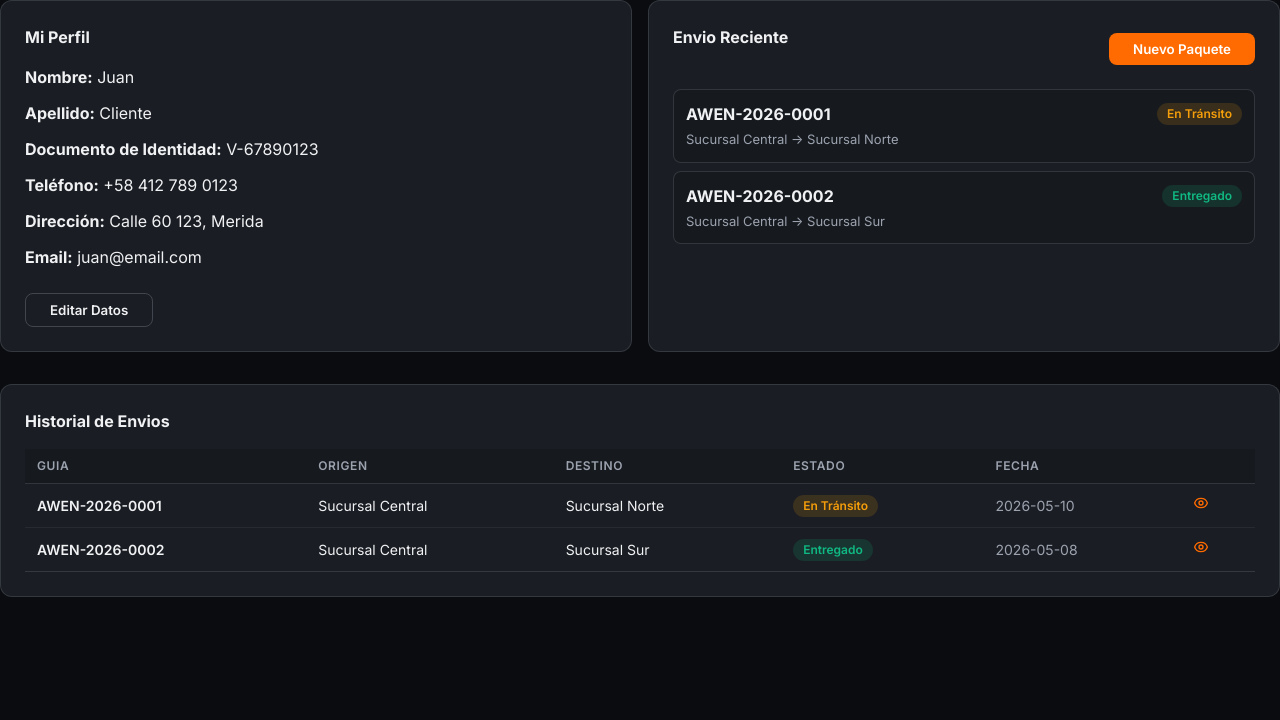
it: ClientProfile › actualiza los datos de contacto del perfil
Expected: the heading "Mi Perfil" is shown, [25, 27, 90, 47]
Step 1. Click the button "Editar Datos" → point(89, 310), box [25, 293, 153, 327]
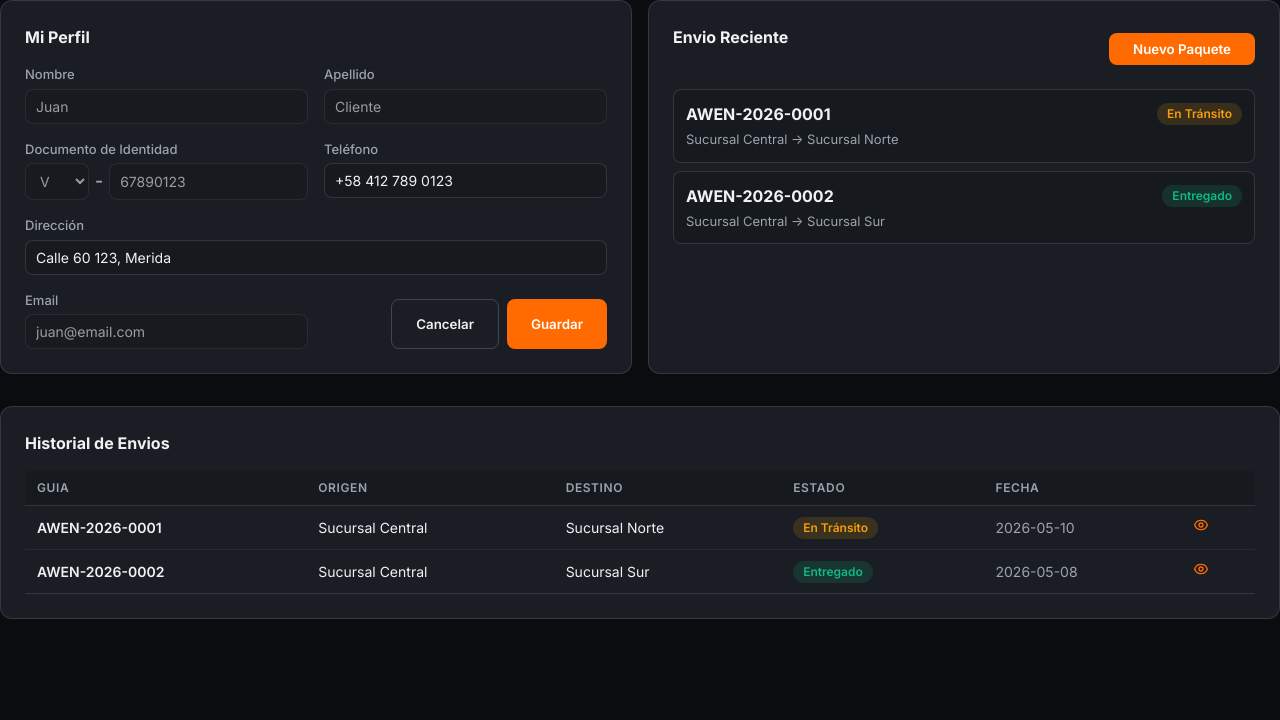
Step 2. Replace the text in the field with placeholder "+58 XXX XXX XXXX" below "Teléfono" with "+58 412 000 0000" → point(466, 180), box [324, 163, 607, 198]
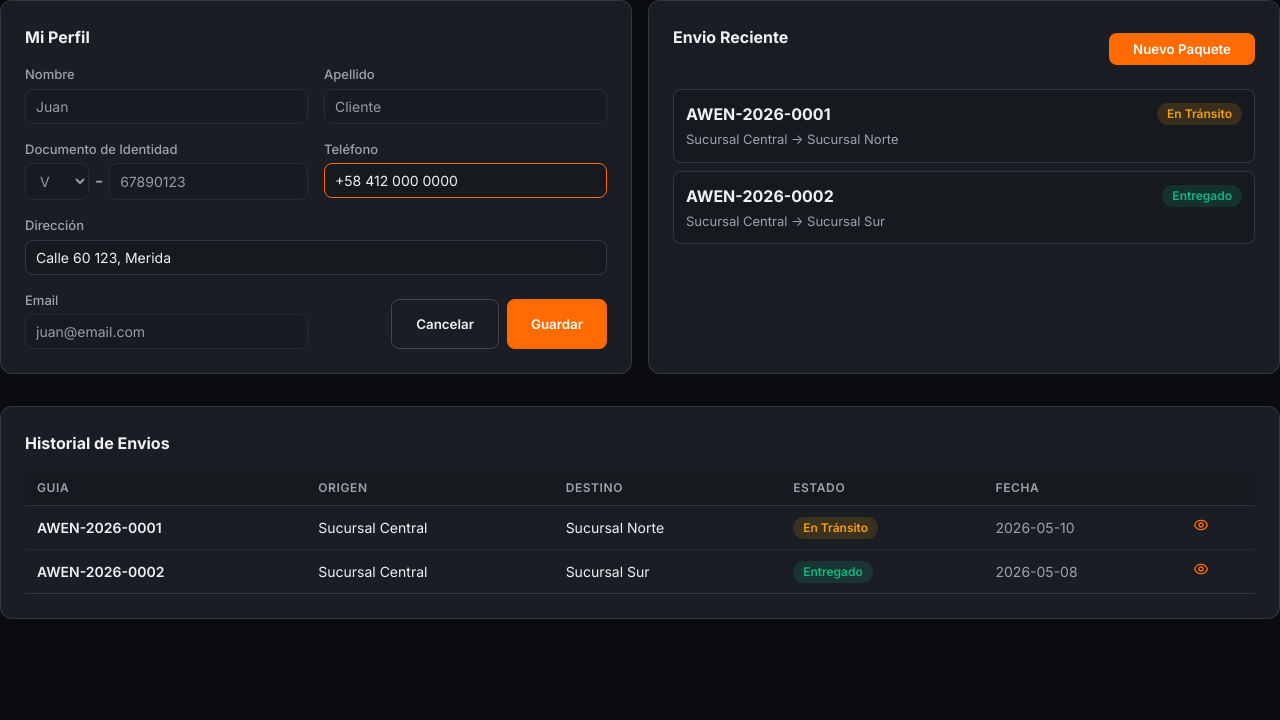
Step 3. Replace the text in the field with placeholder "Calle, ciudad" below "Dirección" with "Nueva Direccion 123" → point(316, 257), box [25, 240, 607, 274]
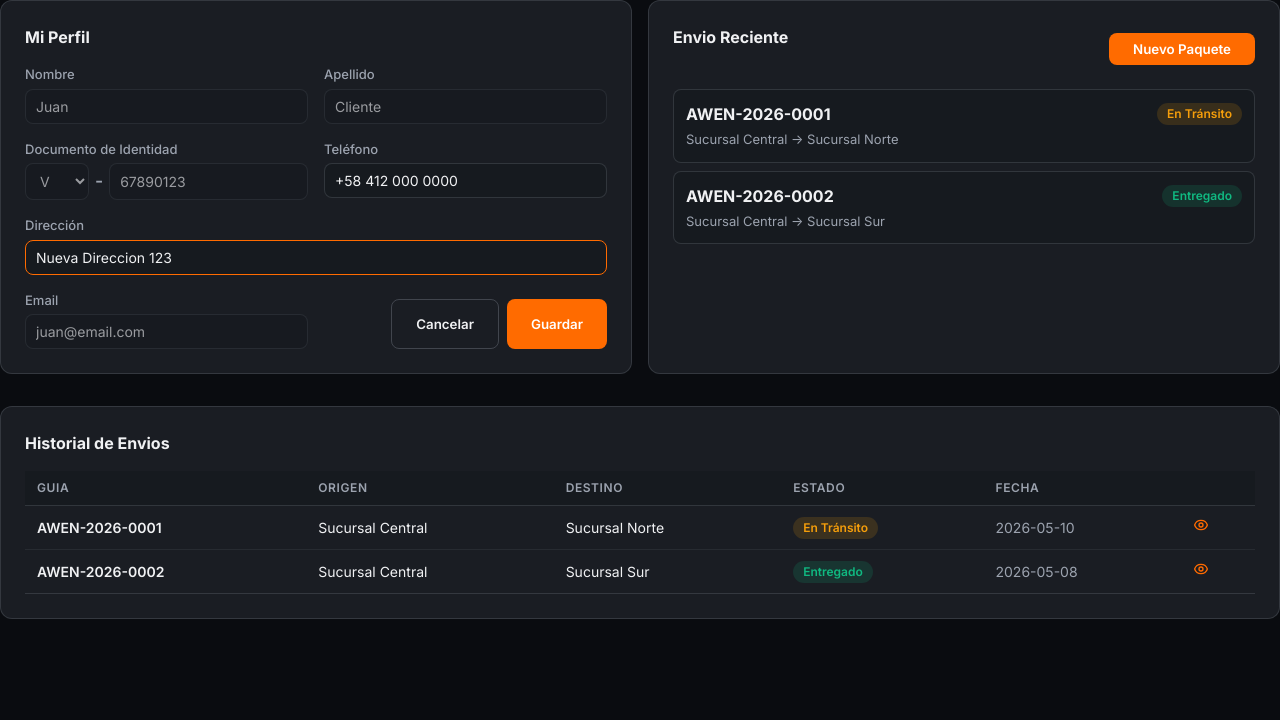
Step 4. Click the button "Guardar" → point(557, 324), box [507, 298, 607, 349]
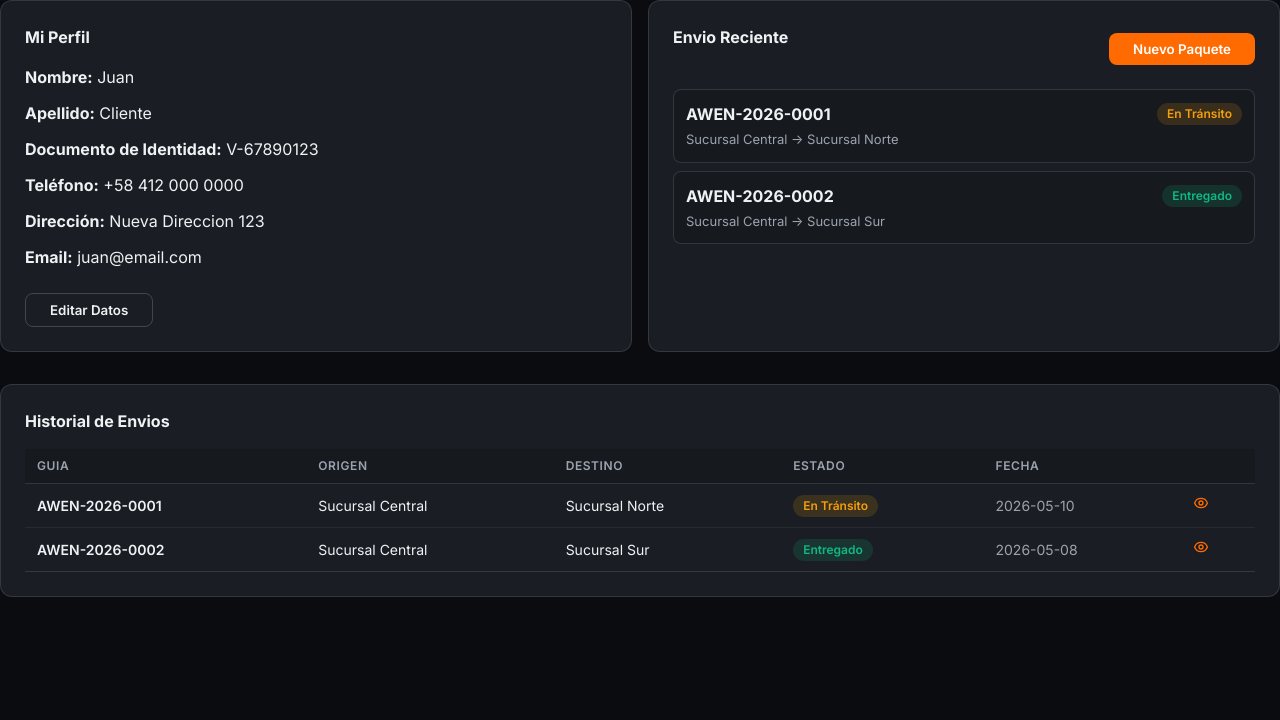
Expected: the button "Editar Datos" is shown, [25, 293, 153, 327]
